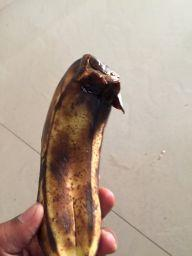banana: (35, 50, 127, 256)
